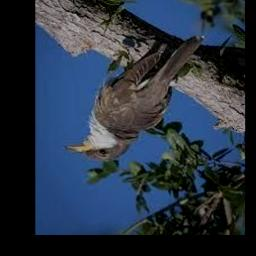Cuckoo: (66, 36, 206, 161)
